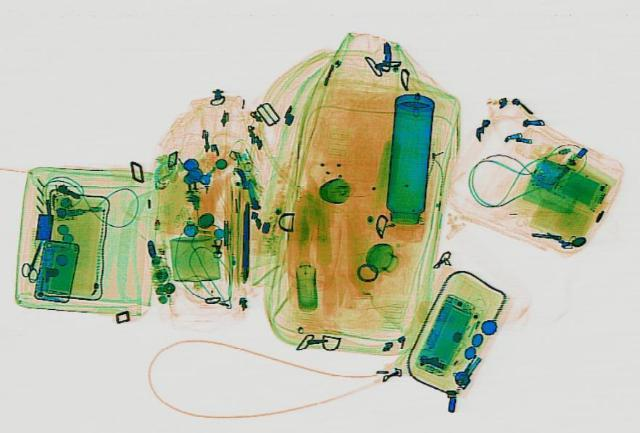Scissors: (18, 239, 52, 280)
